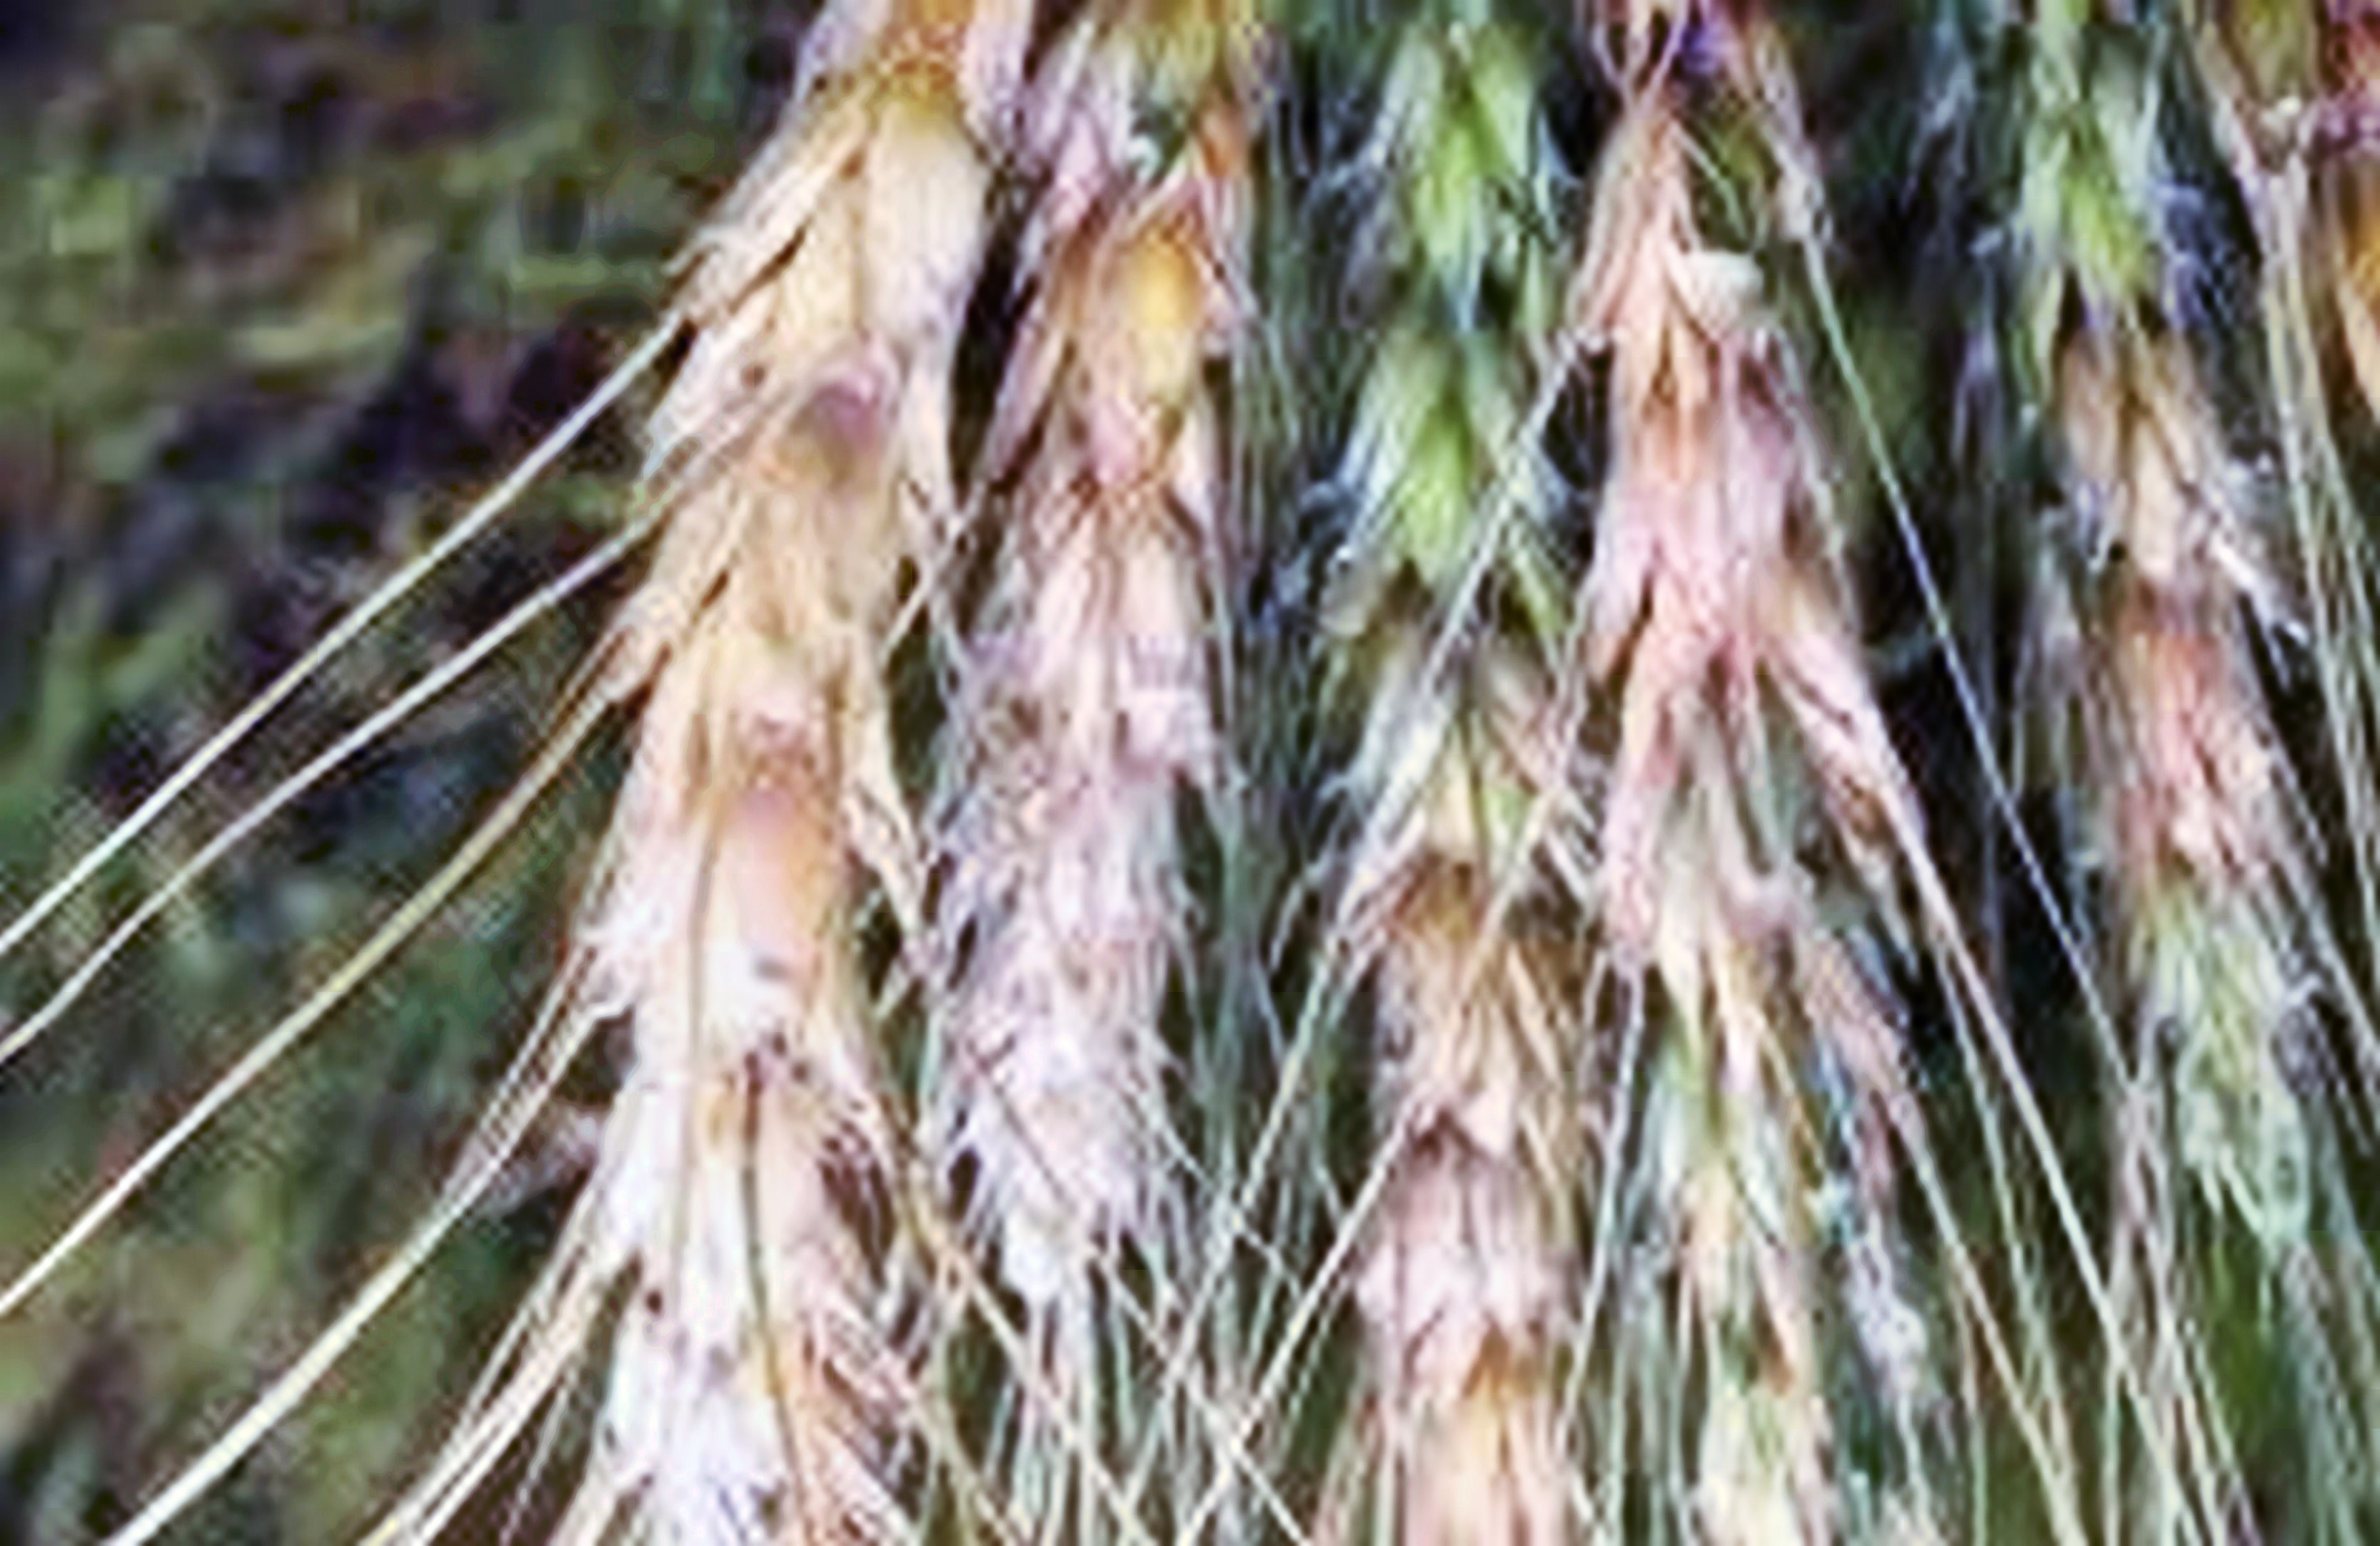Wheat scab: (1306, 29, 1644, 1537)
